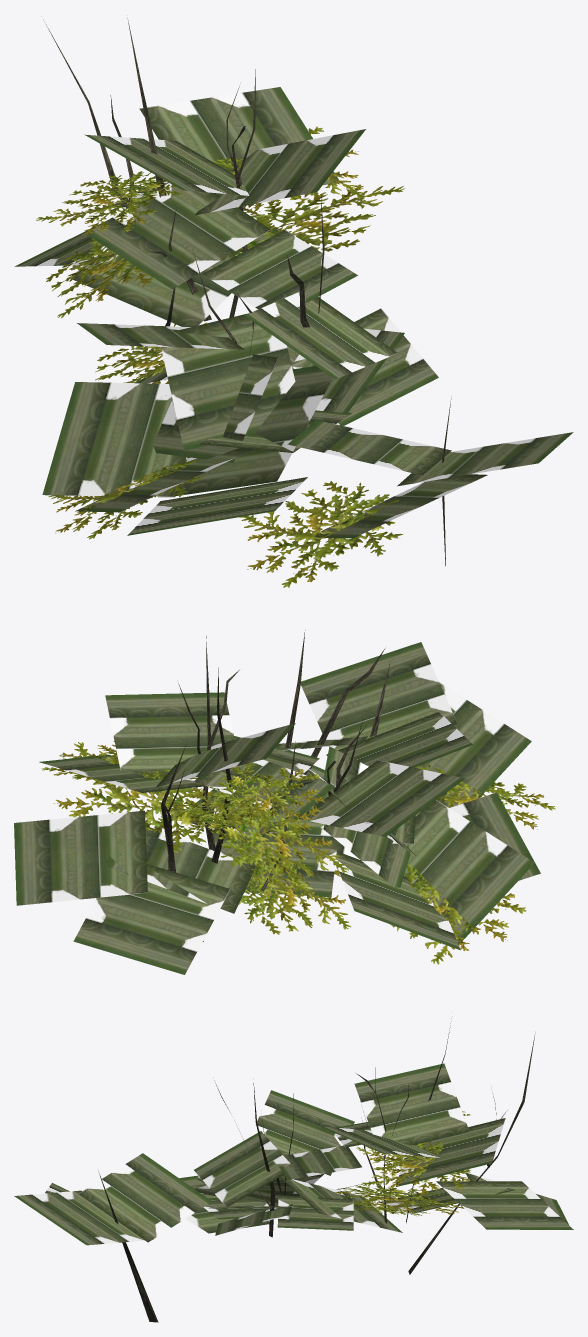
Rendered from S_Tree_Green018_028.FBX.
3 views of the same model, one above another, from view 1: azimuth 30°, elevation 25°; view 2: azimuth 150°, elevation 25°; view 3: azimuth 270°, elevation 25° (orthographic). The views are drawn at different scales.
Parts seen in each view (by area): view 1: S_Tree_Green018_028; view 2: S_Tree_Green018_028; view 3: S_Tree_Green018_028.
Boxes of the visible parts, box(x1,y1,x2,y2) form: S_Tree_Green018_028: box(14, 18, 573, 587); S_Tree_Green018_028: box(14, 630, 555, 974); S_Tree_Green018_028: box(14, 1021, 573, 1322).
Bounding box in the file's own units: 572 × 488 × 881.
